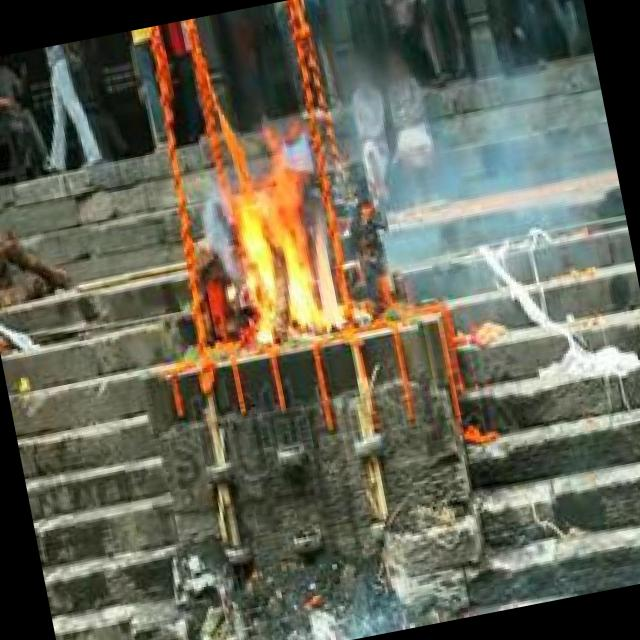Fire: (188, 130, 360, 362)
